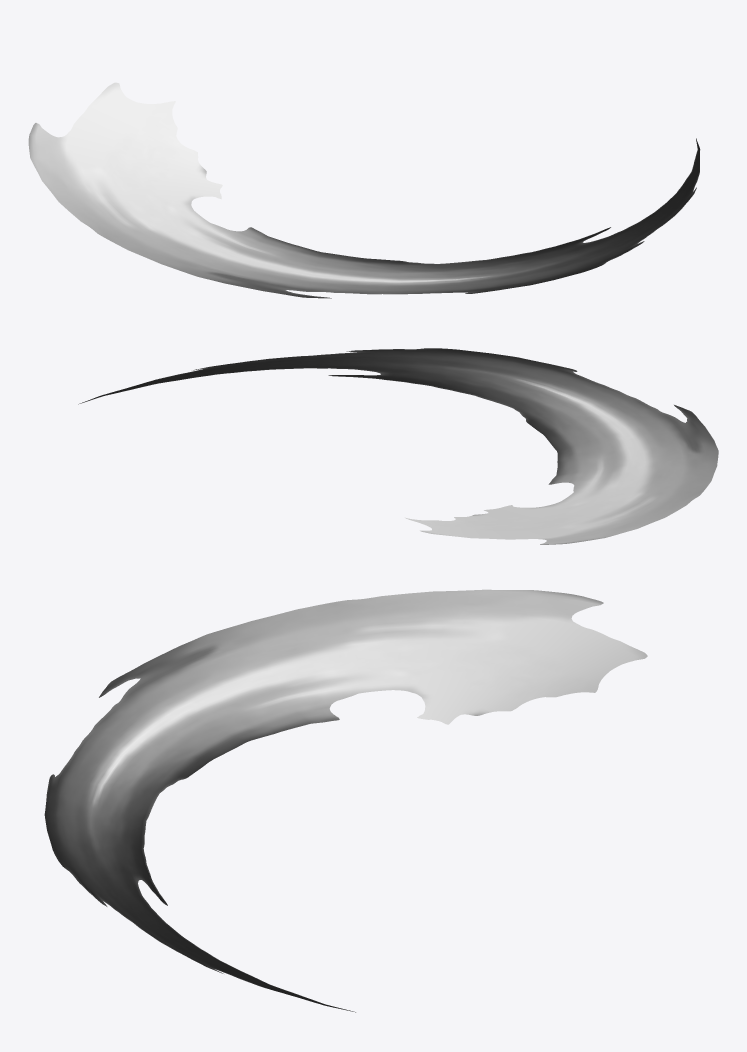
The model's file is p5_spqinyin_dao_01.FBX.
3 views of the same model, one above another, from view 1: azimuth 30°, elevation 25°; view 2: azimuth 150°, elevation 25°; view 3: azimuth 270°, elevation 25° (orthographic). The views are drawn at different scales.
Visible parts, largest first — view 1: Plane001; view 2: Plane001; view 3: Plane001.
Boxes of the visible parts, box(x1,y1,x2,y2) form: Plane001: box(28, 82, 700, 298); Plane001: box(78, 348, 718, 544); Plane001: box(44, 589, 647, 1012).
Bounding box in the file's own units: 382 × 59.71 × 305.
